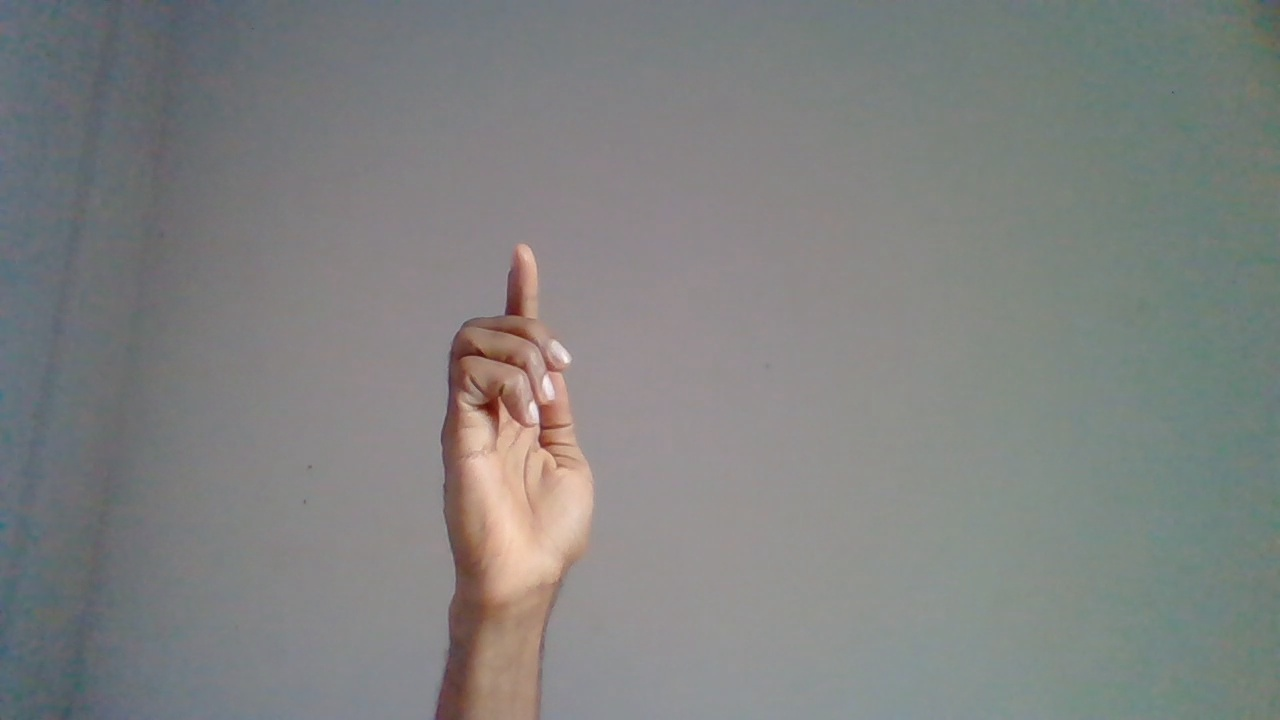qe: (437, 239, 603, 677)
